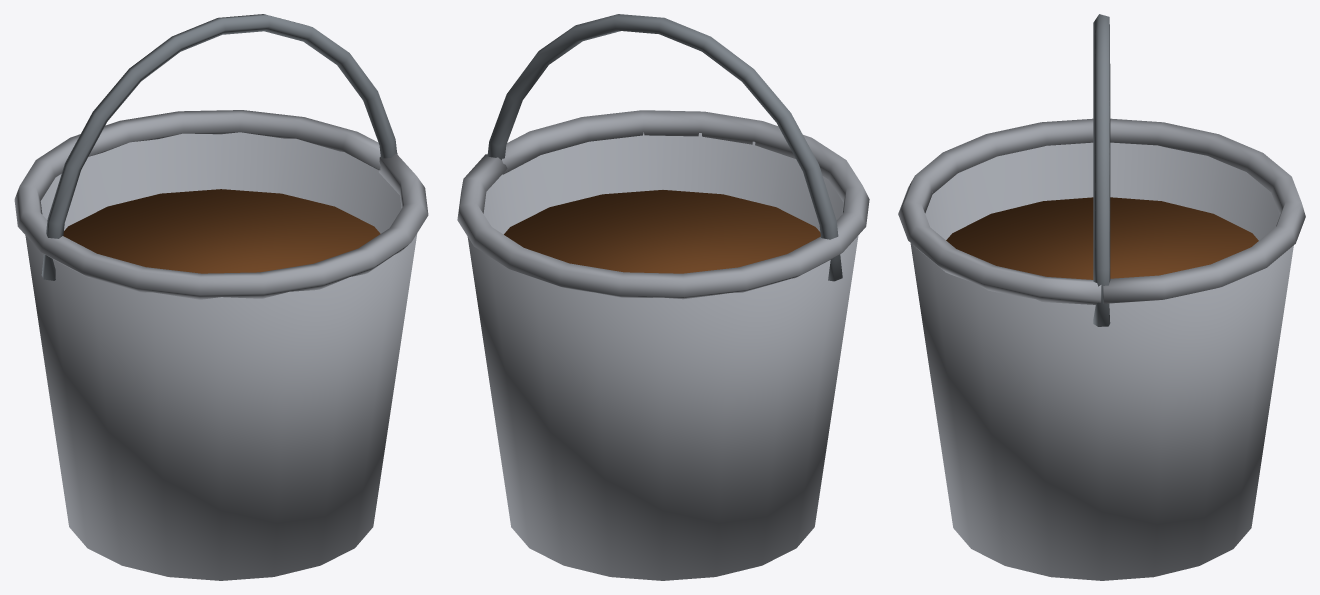
The model's file is brown_paint.glb.
The picture shows the model from 3 angles, left to right: view 1: azimuth 30°, elevation 25°; view 2: azimuth 150°, elevation 25°; view 3: azimuth 270°, elevation 25°; orthographic projection.
Parts seen in each view (by area): view 1: brown_paint_v0; view 2: brown_paint_v0; view 3: brown_paint_v0.
Boxes of the visible parts, x1,y1,x2,y2 form: brown_paint_v0: (14, 14, 428, 580); brown_paint_v0: (457, 14, 869, 580); brown_paint_v0: (898, 14, 1305, 580).
Size of the model in its own units: 0.2696 by 0.3556 by 0.2693.
